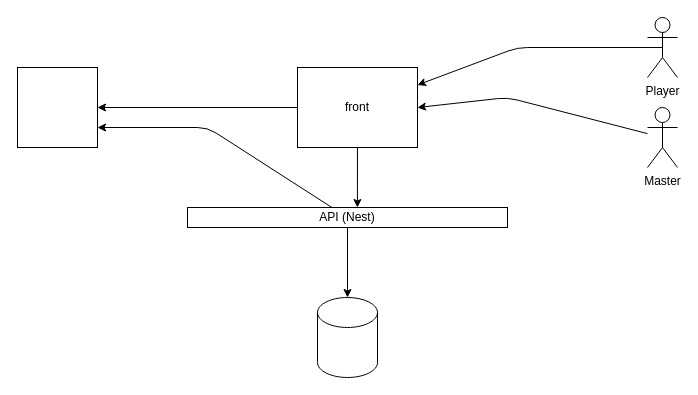
Image size: 698x395. Some labels were removed from this diagram. The shapes that lost their labels are listed below. From the top down, each one's centre as x and y in pixels, then its label:
At [57,107]: "auth0".
At [347,337]: "Mongo".
